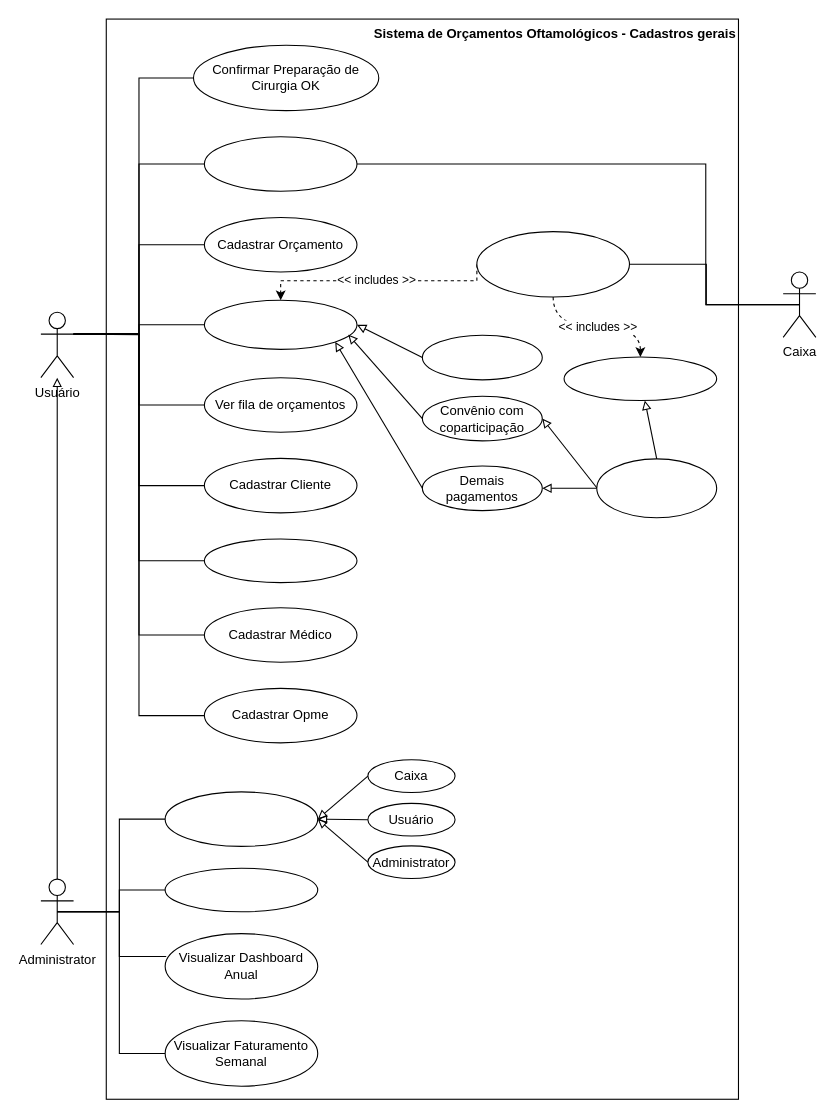
This 835x1118 diagram has some shape labels left out. The box of each missing label's shape, as (x1, y1, x2, y2) in pixels:
Cadastrar Procedimento: (203, 538, 357, 583)
Cadastrar Usuário: (164, 791, 318, 846)
Confirmar Recebimento de Valores: (476, 231, 629, 297)
Convênio sem coparticipação: (421, 334, 542, 380)
Crédito, Débito, Dinheiro, Cheque: (596, 458, 717, 518)
Fechar Orçamento: (203, 299, 357, 349)
Gerar Relatório: (164, 867, 318, 912)
Realizar Login: (203, 136, 357, 191)
Receber Pagamento: (563, 356, 717, 401)
